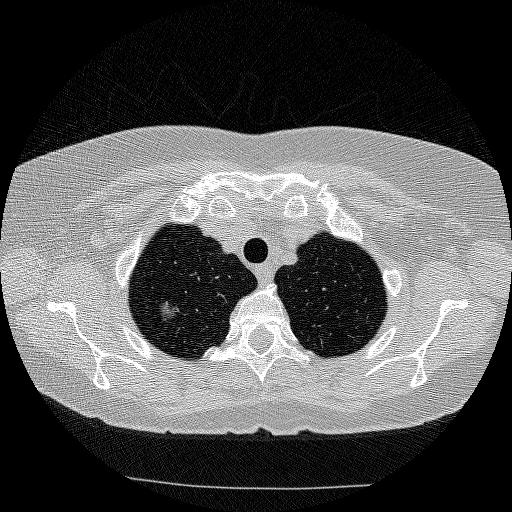nodule: (158, 301, 178, 321)
